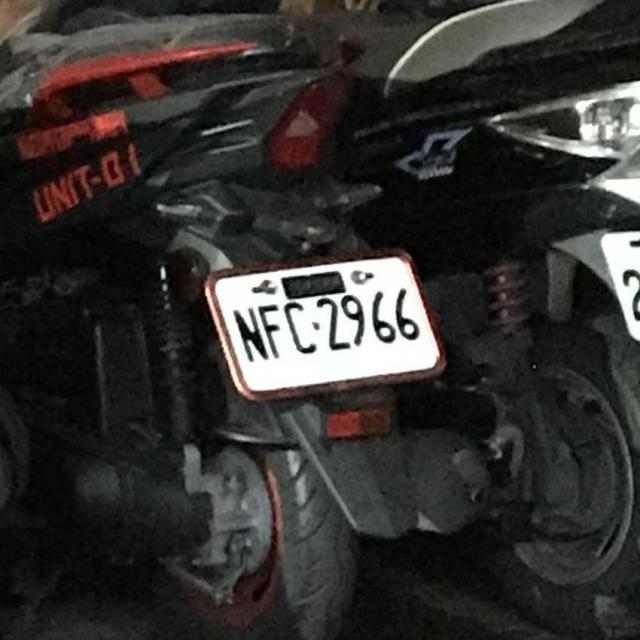W: (206, 233, 445, 413), (595, 199, 640, 351)
